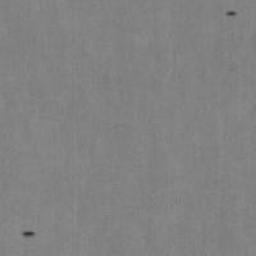Inclusion: (23, 231, 35, 237), (226, 11, 236, 16)
